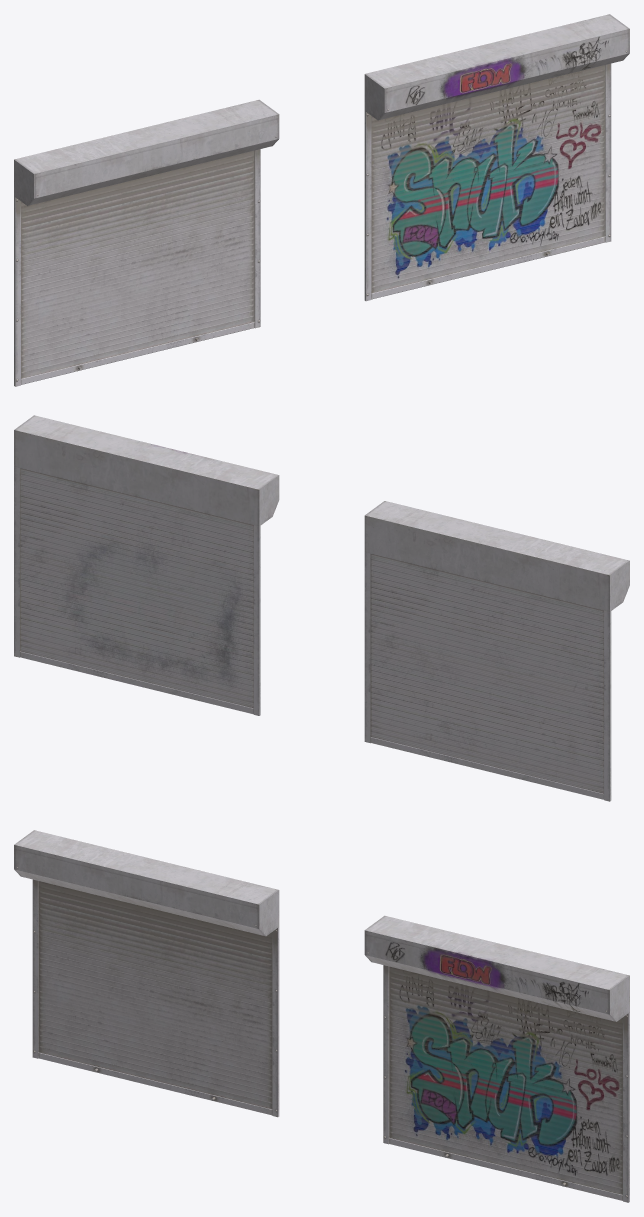
The model's file is rollershutter_window_01.glb.
3 renders of one model, top to bottom at view 1: azimuth 30°, elevation 25°; view 2: azimuth 150°, elevation 25°; view 3: azimuth 330°, elevation 25°, orthographic.
Parts seen in each view (by area): view 1: rollershutter_window_01_graffiti, rollershutter_window_01; view 2: rollershutter_window_01, rollershutter_window_01_graffiti; view 3: rollershutter_window_01, rollershutter_window_01_graffiti.
Part boxes in pixels (x1,y1,x2,y2): rollershutter_window_01_graffiti: (364, 14, 629, 301); rollershutter_window_01: (14, 99, 279, 386); rollershutter_window_01: (364, 501, 629, 801); rollershutter_window_01_graffiti: (14, 415, 279, 715); rollershutter_window_01: (14, 830, 279, 1117); rollershutter_window_01_graffiti: (364, 915, 629, 1202).
Size of the model in its own units: 5.1 by 1.85 by 0.3001.
Materials: 2 (2 with a texture image).
